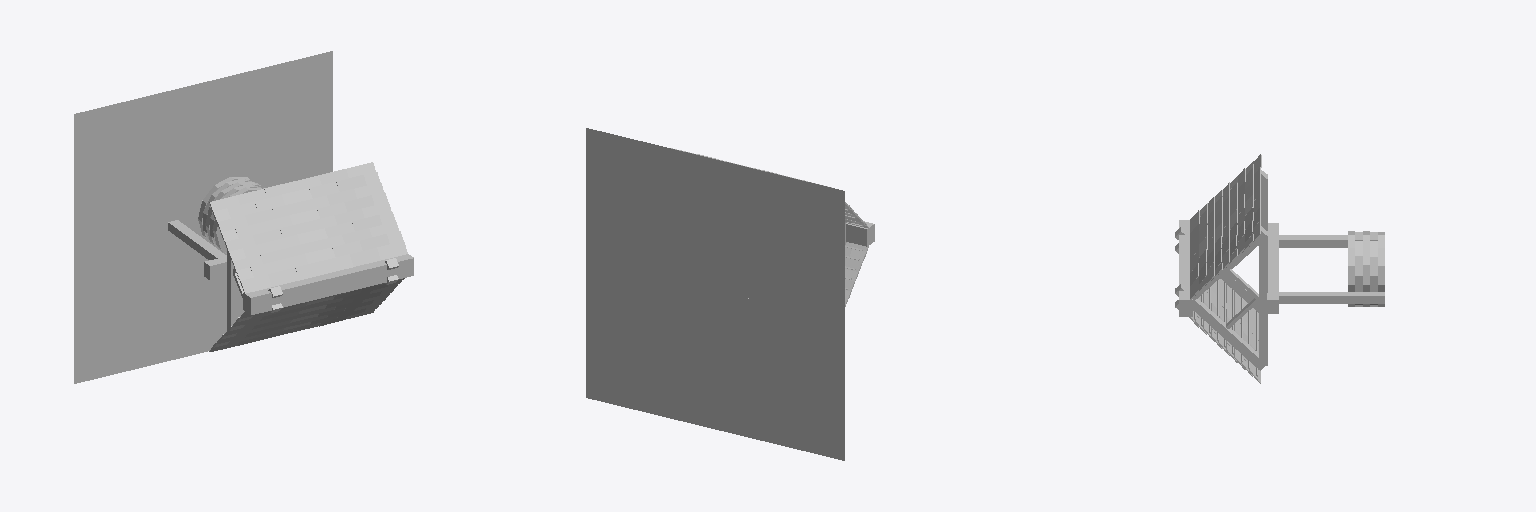
Rendered from Puit_01.obj.
3 renders of one model, left to right at view 1: azimuth 30°, elevation 25°; view 2: azimuth 150°, elevation 25°; view 3: azimuth 270°, elevation 25°, orthographic.
Visible parts, largest first — view 1: Plan, Poteau.013_Cube.088, Poteau_Cube.072, Poteau.003_Cube.075; view 2: Plan, Poteau.013_Cube.088; view 3: Poteau.001_Cube.073, Poteau.004_Cube.076, Poteau.006_Cube.079, Poteau.013_Cube.088, Poteau.002_Cube.074, Poteau_Cube.072.
Part boxes in pixels (bbox=[...]): Plan: bbox=[74, 51, 332, 383]; Poteau.013_Cube.088: bbox=[243, 254, 413, 315]; Poteau_Cube.072: bbox=[168, 220, 226, 259]; Poteau.003_Cube.075: bbox=[227, 250, 240, 330]; Plan: bbox=[586, 128, 844, 460]; Poteau.013_Cube.088: bbox=[846, 222, 874, 246]; Poteau.001_Cube.073: bbox=[1279, 292, 1384, 303]; Poteau.004_Cube.076: bbox=[1259, 231, 1267, 365]; Poteau.006_Cube.079: bbox=[1175, 283, 1264, 370]; Poteau.013_Cube.088: bbox=[1179, 220, 1192, 316]; Poteau.002_Cube.074: bbox=[1267, 223, 1278, 313]; Poteau_Cube.072: bbox=[1279, 235, 1347, 247].
Size of the model in its own units: 66.29 by 66.29 by 46.72.